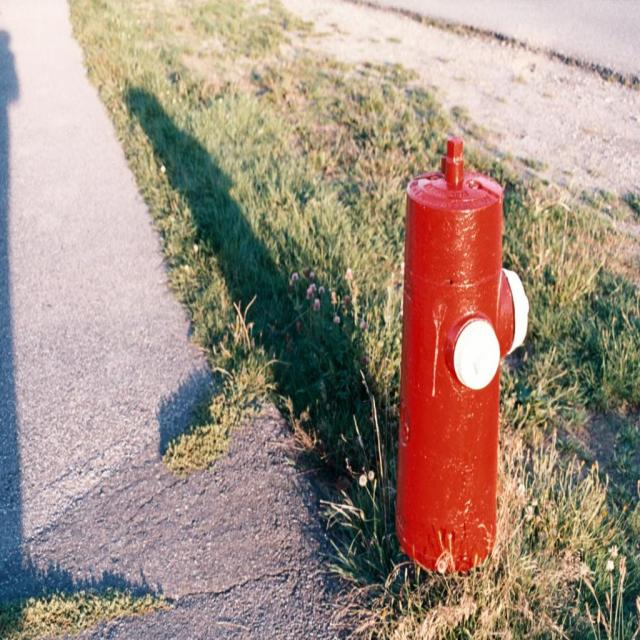fire_hydrant: (394, 139, 522, 575)
